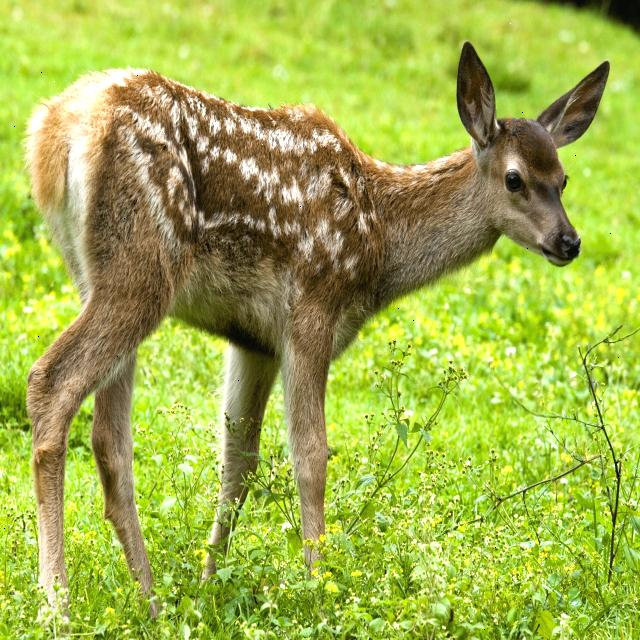deer: (0, 34, 611, 638)
